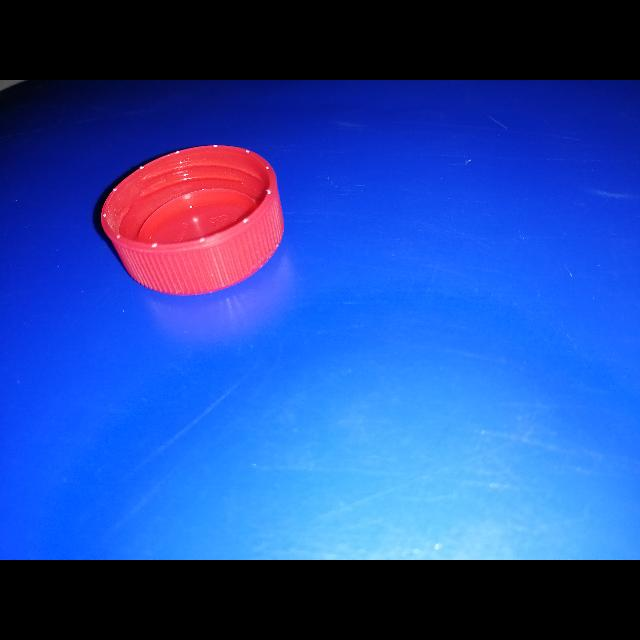plastic_bottle_cap: (98, 142, 286, 296)
